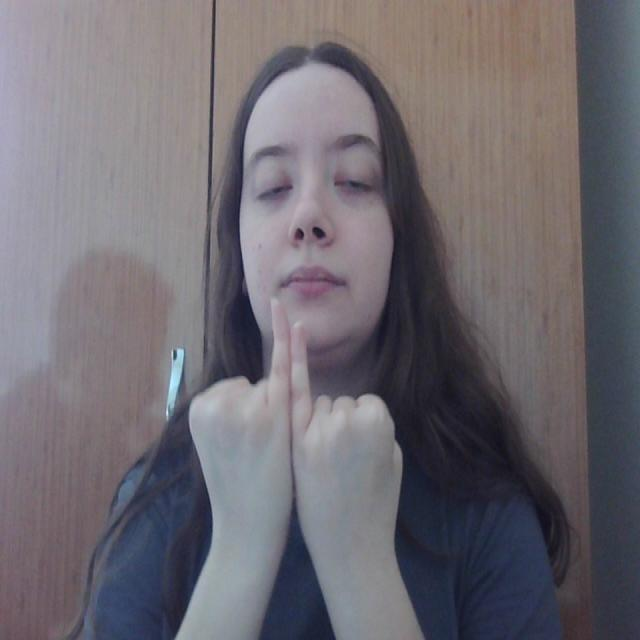Kardes: (184, 293, 408, 567)
